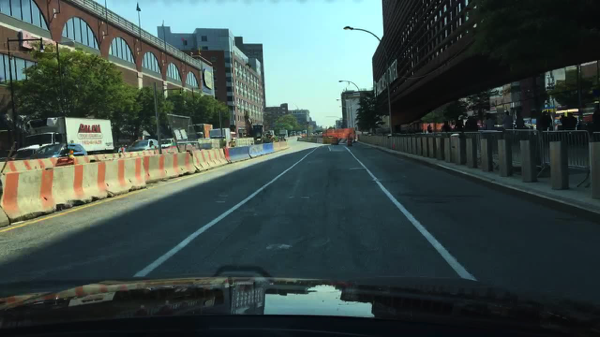car: (27, 142, 86, 156), (127, 138, 158, 151), (160, 138, 175, 147)
person: (500, 106, 513, 131), (559, 110, 576, 129), (589, 103, 600, 130), (483, 110, 497, 131), (539, 108, 551, 131), (513, 108, 526, 129), (461, 115, 477, 130), (452, 119, 462, 132), (440, 119, 450, 131), (425, 123, 432, 132)
truck: (15, 117, 114, 162), (184, 123, 213, 139), (207, 127, 232, 140), (278, 129, 288, 138), (264, 129, 276, 136), (288, 130, 297, 136), (303, 129, 308, 136), (295, 130, 301, 135)
